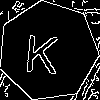K: (23, 26, 61, 74)
